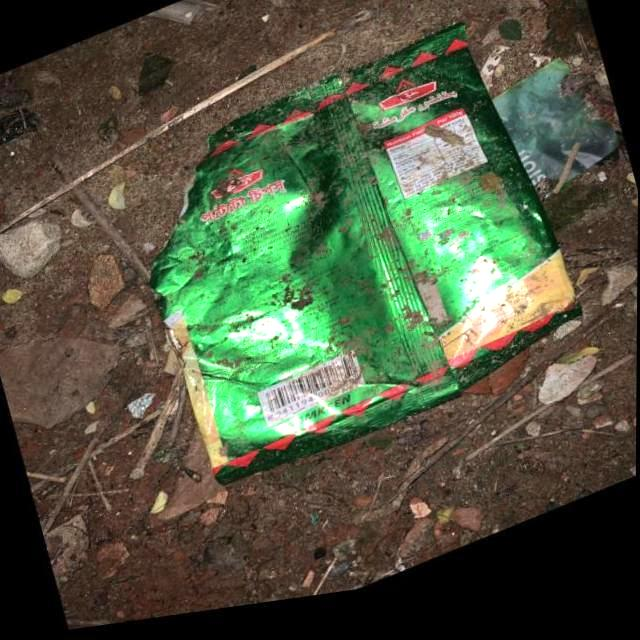packet: (114, 33, 580, 486)
